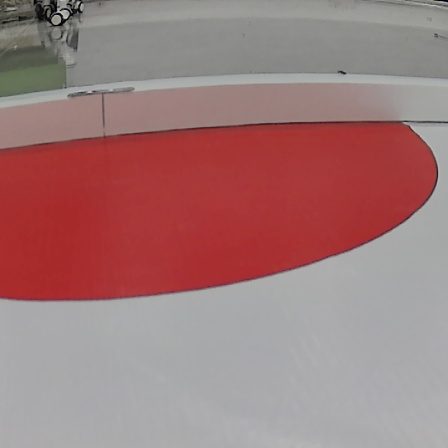red_base: (2, 119, 434, 304)
